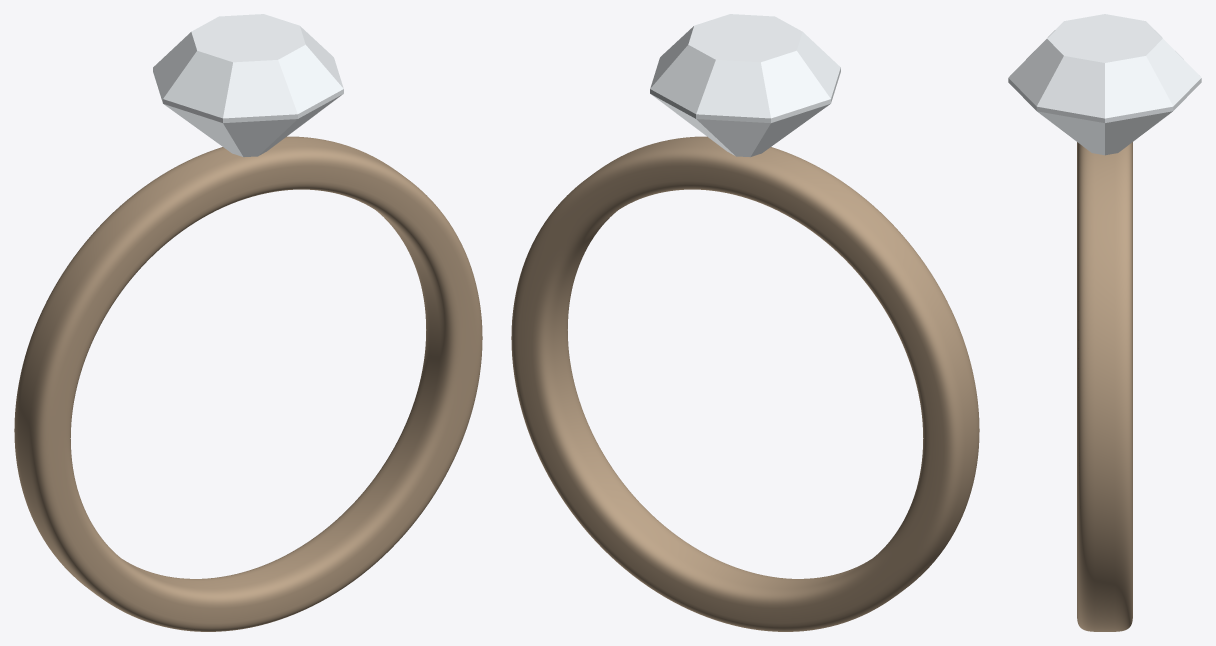
Rendered from plain_gold_ring.glb.
The picture shows the model from 3 angles, left to right: view 1: azimuth 30°, elevation 25°; view 2: azimuth 150°, elevation 25°; view 3: azimuth 270°, elevation 25°; orthographic projection. The views are drawn at different scales.
Parts seen in each view (by area): view 1: RingDiamond; view 2: RingDiamond; view 3: RingDiamond.
Boxes of the visible parts, <box> form: RingDiamond: <box>14,14,482,631</box>; RingDiamond: <box>511,14,979,631</box>; RingDiamond: <box>1008,14,1201,631</box>.
Bounding box in the file's own units: 2 × 2.47 × 0.76.
